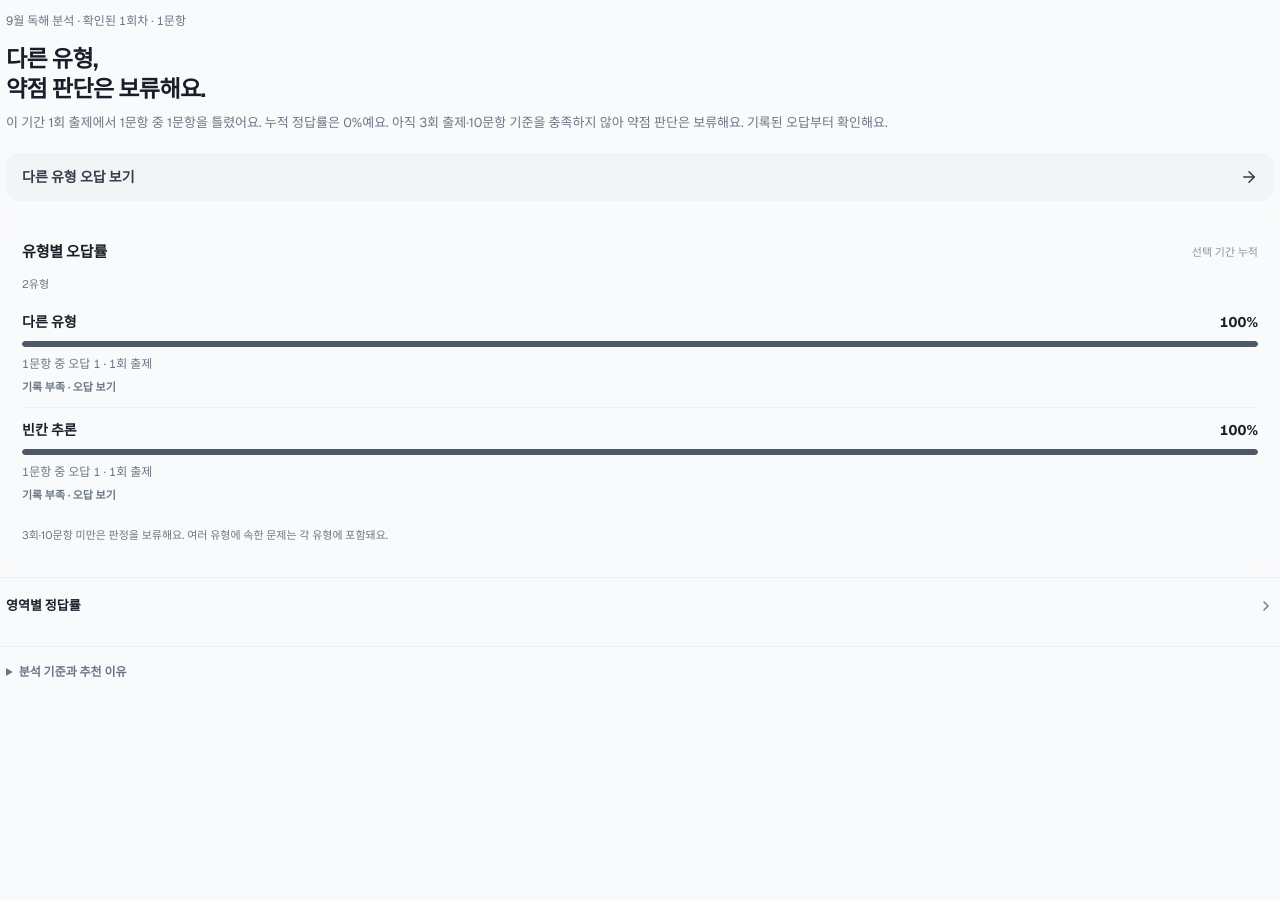
Test case: Share 분석 디자인 이력 › 영역 요약에서도 같은 영역의 다중 태그 문항을 한 번만 센다
Step 1. Click the heading "영역별 정답률" → x=43, y=606, box [6, 598, 1274, 614]
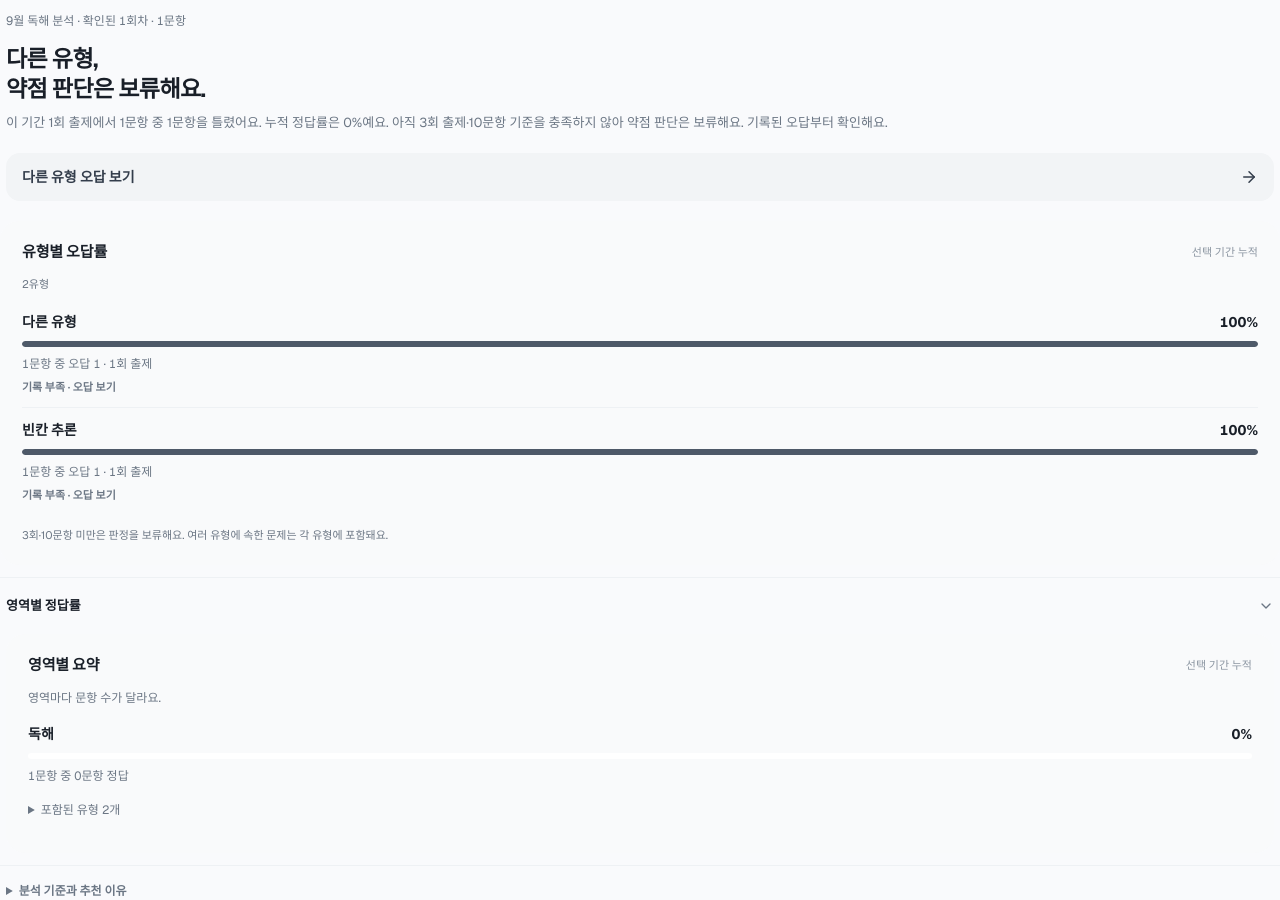
Check: the text "1문항 중 0문항 정답" is shown, box [28, 768, 129, 784]
Check: the heading "포함된 유형 2개" is shown, box [41, 802, 120, 818]
